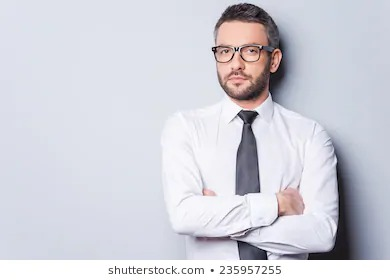F_shirt: (156, 96, 338, 259)
F_tie: (231, 108, 264, 258)
